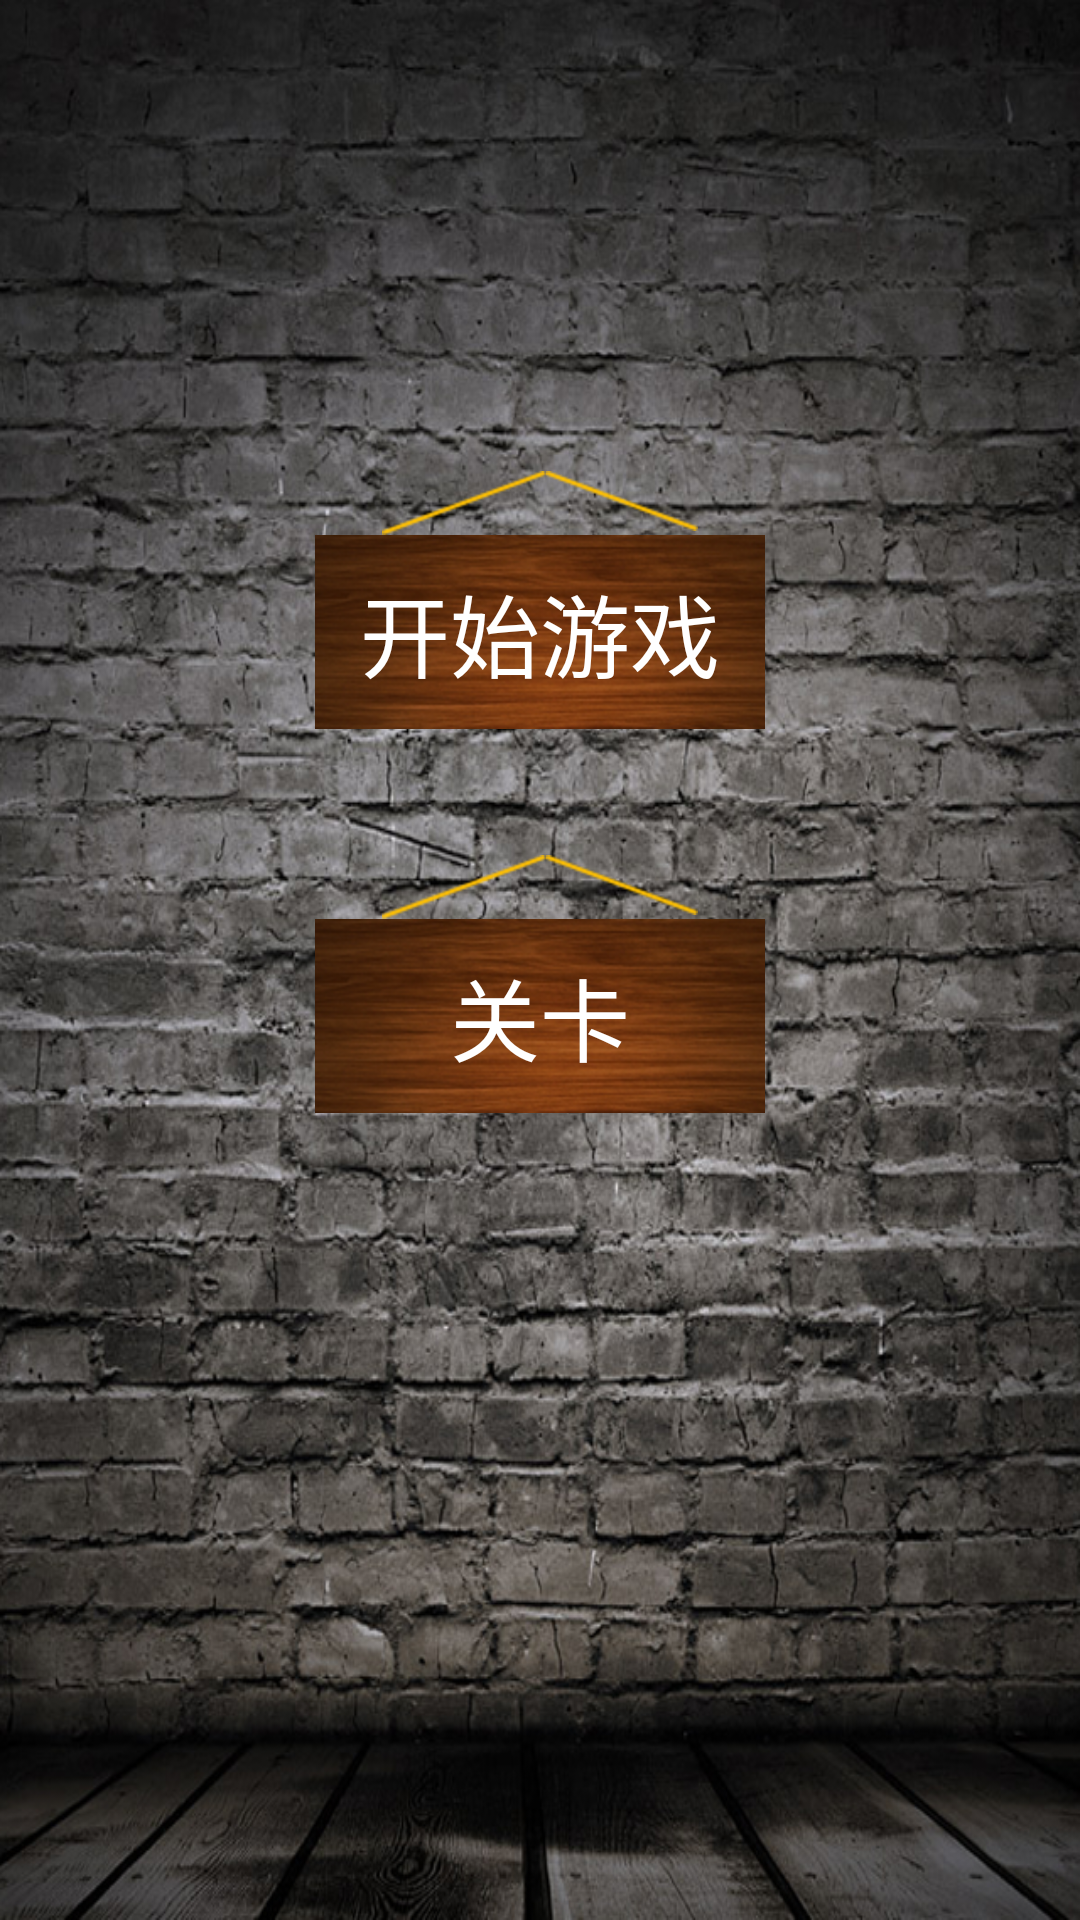

Screen size 1080 x 1920. Icon name, then its center in pixels as (x,y):
shengziyou: (622,501), (622,885)
shengzizuo: (464,503), (464,887)
